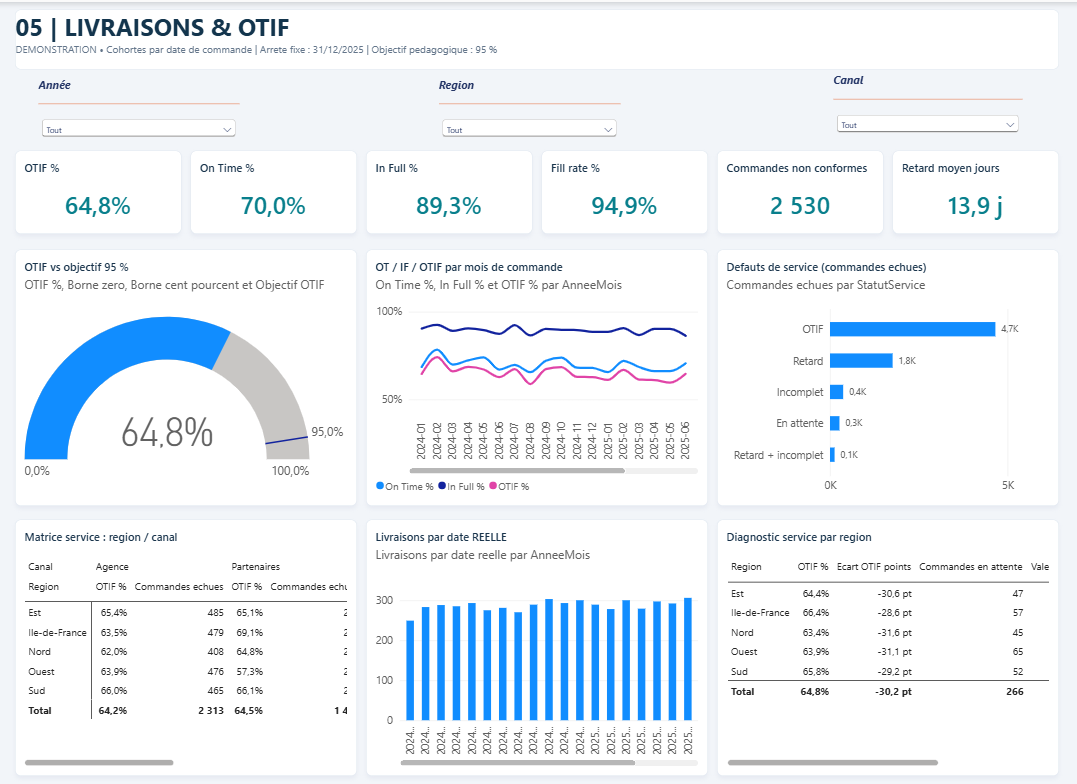

The dashboard page shown, as its layout file describes it:
{"tool":"powerbi","page":{"name":"05 | Livraisons & OTIF","canvas":[1440,1100],"ordinal":4},"visuals":[{"type":"textbox","box":[24,10,1392,80],"z":0},{"type":"card","title":"OTIF %","fields":{"Values":["FactVentes.OTIF %"]},"box":[24,197,222,111],"z":4000},{"type":"card","title":"On Time %","fields":{"Values":["FactVentes.On Time %"]},"box":[258,197,222,111],"z":5000},{"type":"card","title":"In Full %","fields":{"Values":["FactVentes.In Full %"]},"box":[492,197,222,111],"z":6000},{"type":"card","title":"Fill rate %","fields":{"Values":["FactVentes.Fill rate %"]},"box":[726,197,222,111],"z":7000},{"type":"card","title":"Commandes non conformes","fields":{"Values":["FactVentes.Commandes non conformes"]},"box":[960,197,222,111],"z":8000},{"type":"card","title":"Retard moyen jours","fields":{"Values":["FactVentes.Retard moyen jours"]},"box":[1194,197,222,111],"z":9000},{"type":"gauge","title":"OTIF vs objectif 95 %","fields":{"MaxValue":["FactVentes.Borne cent pourcent"],"MinValue":["FactVentes.Borne zero"],"TargetValue":["FactVentes.Objectif OTIF"],"Y":["FactVentes.OTIF %"]},"box":[24,330,456,342],"z":10000},{"type":"lineChart","title":"OT / IF / OTIF par mois de commande","fields":{"Category":["DimDate.AnneeMois"],"Y":["FactVentes.On Time %","FactVentes.In Full %","FactVentes.OTIF %"]},"box":[492,330,456,342],"z":11000},{"type":"clusteredBarChart","title":"Defauts de service (commandes echues)","fields":{"Category":["FactLivraisons.StatutService"],"Y":["FactVentes.Commandes echues"]},"box":[960,330,456,342],"z":12000},{"type":"pivotTable","title":"Matrice service : region / canal","fields":{"Columns":["DimCanal.Canal"],"Rows":["DimRegion.Region"],"Values":["FactVentes.OTIF %","FactVentes.Commandes echues"]},"box":[24,690,456,342],"z":13000},{"type":"clusteredColumnChart","title":"Livraisons par date REELLE","fields":{"Category":["DimDate.AnneeMois"],"Y":["FactVentes.Livraisons par date reelle"]},"box":[492,690,456,342],"z":14000},{"type":"tableEx","title":"Diagnostic service par region","fields":{"Values":["DimRegion.Region","FactVentes.OTIF %","FactVentes.Ecart OTIF points","FactVentes.Commandes en attente","FactVentes.Valeur non conforme","FactVentes.Statut OTIF"]},"box":[960,690,456,342],"z":15000},{"type":"textbox","box":[24,1052,1392,32],"z":16000},{"type":"slicer","title":"Année","fields":{"Values":["DimDate.Annee"]},"box":[50,94,278,88],"z":16001},{"type":"slicer","title":"Region","fields":{"Values":["DimRegion.Region"]},"box":[584,94,252,88],"z":16002},{"type":"slicer","title":"Canal","fields":{"Values":["DimCanal.Canal"]},"box":[1110,88,262,88],"z":16003}]}

Visuals, with their boxes on the page's 1440x1100 design canvas (x1, y1, x2, y2). These are canvas units, not pixel positions in the 1077x784 screenshot, which may show the page scaled, cropped or inside an application window:
textbox: locate(24, 10, 1416, 90)
"OTIF %" card: locate(24, 197, 246, 308)
"On Time %" card: locate(258, 197, 480, 308)
"In Full %" card: locate(492, 197, 714, 308)
"Fill rate %" card: locate(726, 197, 948, 308)
"Commandes non conformes" card: locate(960, 197, 1182, 308)
"Retard moyen jours" card: locate(1194, 197, 1416, 308)
"OTIF vs objectif 95 %" gauge: locate(24, 330, 480, 672)
"OT / IF / OTIF par mois de commande" lineChart: locate(492, 330, 948, 672)
"Defauts de service (commandes echues)" clusteredBarChart: locate(960, 330, 1416, 672)
"Matrice service : region / canal" pivotTable: locate(24, 690, 480, 1032)
"Livraisons par date REELLE" clusteredColumnChart: locate(492, 690, 948, 1032)
"Diagnostic service par region" tableEx: locate(960, 690, 1416, 1032)
textbox: locate(24, 1052, 1416, 1084)
"Année" slicer: locate(50, 94, 328, 182)
"Region" slicer: locate(584, 94, 836, 182)
"Canal" slicer: locate(1110, 88, 1372, 176)
